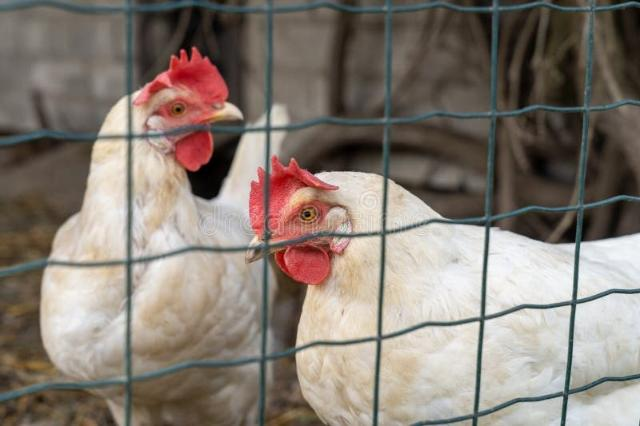Chicken: (244, 154, 639, 426), (38, 44, 288, 426)
